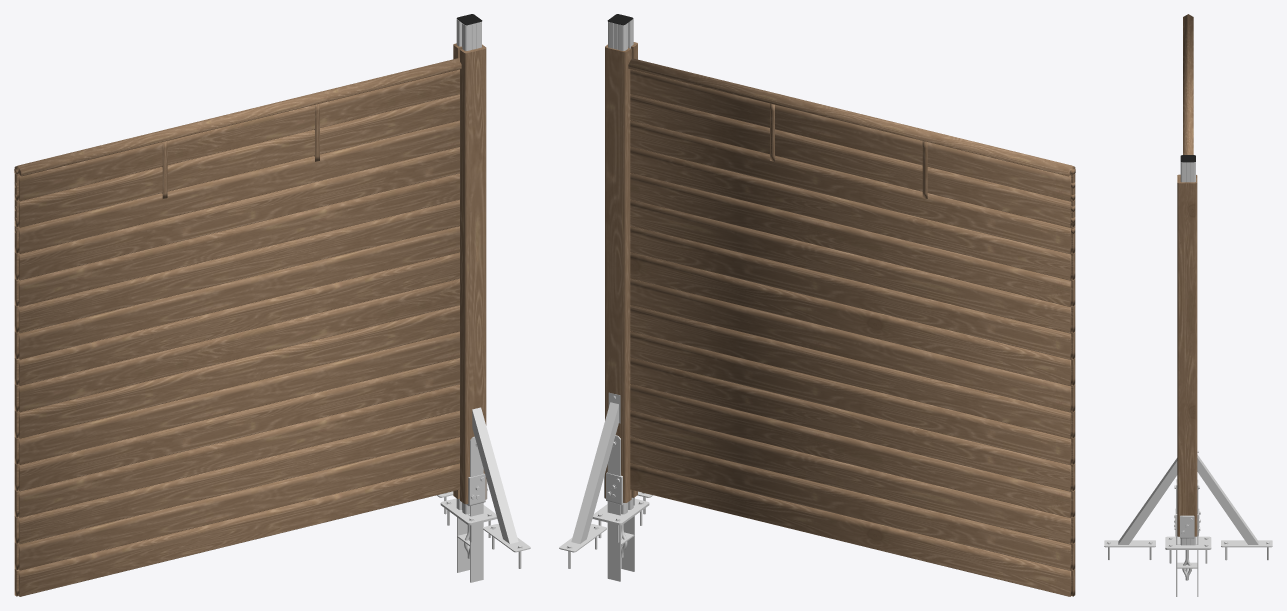
Rendered from gardoRight12.glb.
3 renders of one model, left to right at view 1: azimuth 30°, elevation 25°; view 2: azimuth 150°, elevation 25°; view 3: azimuth 270°, elevation 25°, orthographic. The views are drawn at different scales.
Visible parts, largest first — view 1: Drvena 8kom dole.004, Drvena 8kom dole.012, Drvena 8kom dole.006, Drvena 8kom dole.002, Drvena 8kom dole.010, Drvena 8kom dole.003, Drvena 8kom dole.011, Drvena 8kom dole.005, Drvena 8kom dole.007, Drvena 8kom dole.001, Drvena 8kom dole.013, Drvena 8kom dole.009 (+11 smaller); view 2: Drvena 8kom dole.012, Drvena 8kom dole.004, Drvena 8kom dole.006, Drvena 8kom dole.010, Drvena 8kom dole.002, Drvena 8kom dole.003, Drvena 8kom dole.007, Drvena 8kom dole.011, Drvena 8kom dole.013, Drvena 8kom dole.009, Drvena 8kom dole.005, Drvena 8kom dole.001 (+11 smaller); view 3: Wooden post, Poklopac gore, sturmanker-right-rear, sturmanker-right-front, post-root-right, Plane.001, post-right, NosacBoth.
Boxes of the visible parts, x1,y1,x2,y2 form: Drvena 8kom dole.004: (14,384,459,517); Drvena 8kom dole.012: (14,173,459,306); Drvena 8kom dole.006: (14,331,459,464); Drvena 8kom dole.002: (14,437,459,570); Drvena 8kom dole.010: (14,226,459,359); Drvena 8kom dole.003: (14,410,459,543); Drvena 8kom dole.011: (14,199,459,332); Drvena 8kom dole.005: (14,357,459,491); Drvena 8kom dole.007: (14,305,459,438); Drvena 8kom dole.001: (14,463,459,596); Drvena 8kom dole.013: (14,147,459,280); Drvena 8kom dole.009: (14,252,459,385); Drvena 8kom dole.012: (630,173,1075,306); Drvena 8kom dole.004: (630,384,1075,517); Drvena 8kom dole.006: (630,331,1075,464); Drvena 8kom dole.010: (630,226,1075,359); Drvena 8kom dole.002: (630,437,1075,570); Drvena 8kom dole.003: (630,411,1075,543); Drvena 8kom dole.007: (630,305,1075,438); Drvena 8kom dole.011: (630,200,1075,332); Drvena 8kom dole.013: (630,147,1075,280); Drvena 8kom dole.009: (630,252,1075,385); Drvena 8kom dole.005: (630,358,1075,491); Drvena 8kom dole.001: (630,463,1075,596); Wooden post: (1177,174,1197,536); Poklopac gore: (1183,14,1193,154); sturmanker-right-rear: (1197,450,1272,560); sturmanker-right-front: (1104,458,1177,559); post-root-right: (1165,536,1211,563); Plane.001: (1174,479,1199,596); post-right: (1180,162,1195,545); NosacBoth: (1180,515,1194,573).
Size of the model in its own units: 1.91 by 2.16 by 0.7571.
10 materials, 1 textured.
